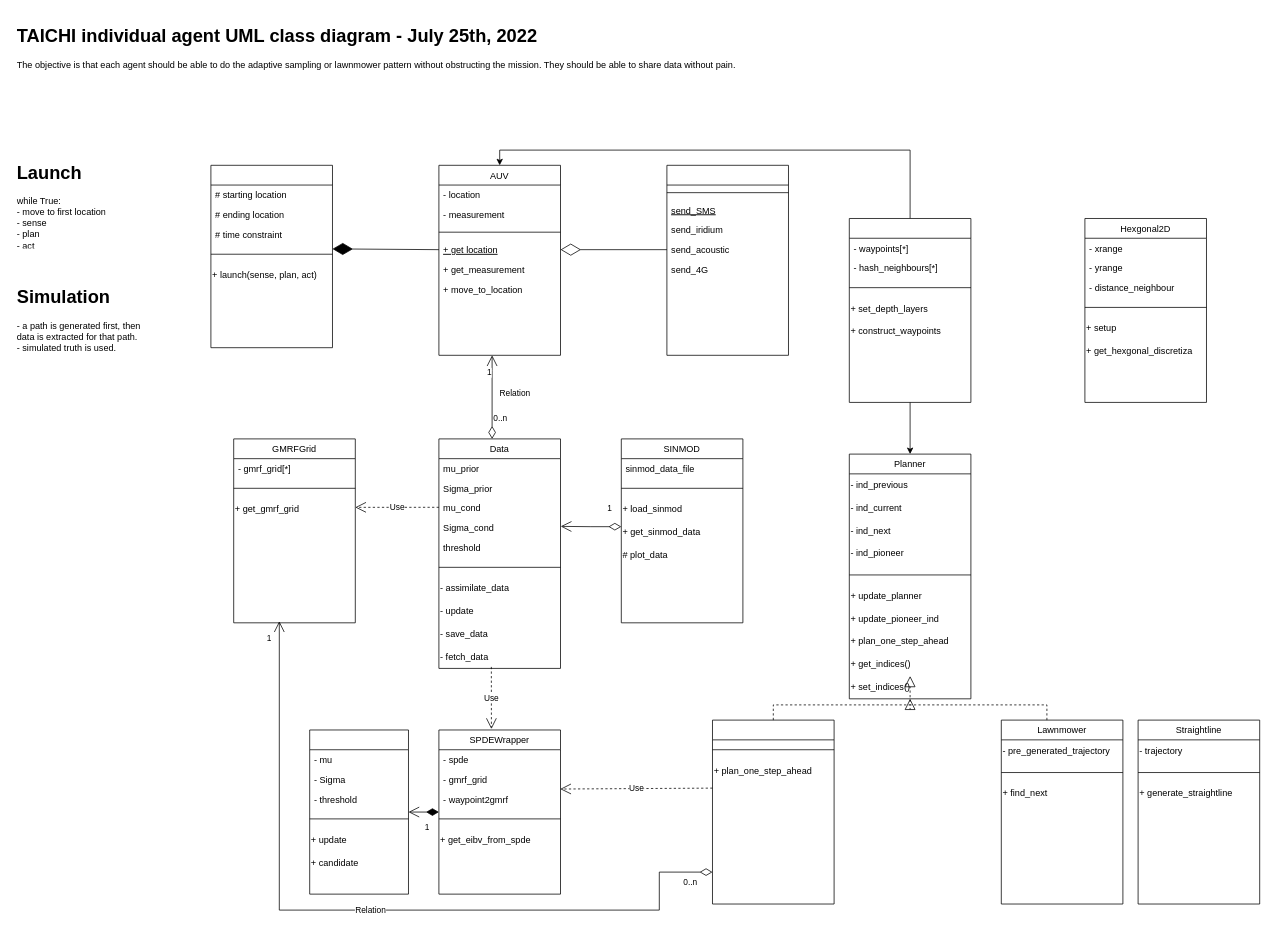
Some shapes in this 1273 by 936 pixel diagram are drawn without their labels. The shapes that lost their labels are listed below. From the top down, each one's box as (x1, y1, x2, y2) in pixels, then its label:
(210, 165, 332, 348): Agent
(666, 165, 788, 355): Messenger
(849, 218, 971, 402): WaypointGraph
(309, 729, 408, 894): SPDE
(712, 719, 834, 904): Myopic3D
